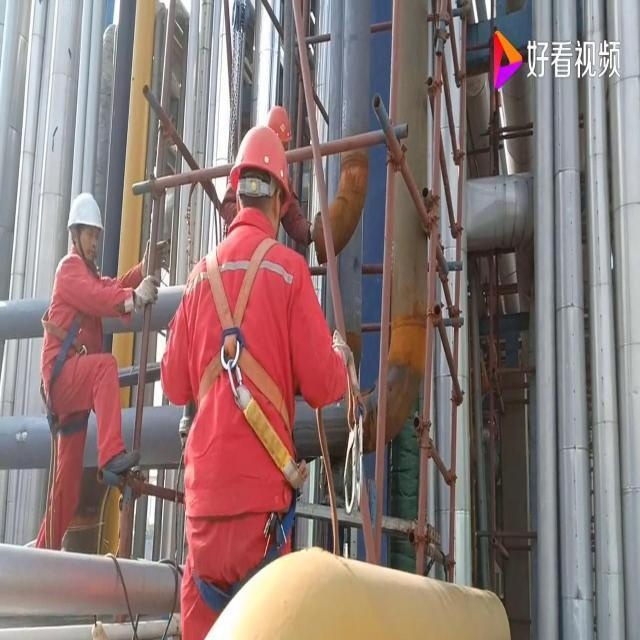Arnes_seguridad: (192, 231, 293, 421), (37, 253, 103, 423)
